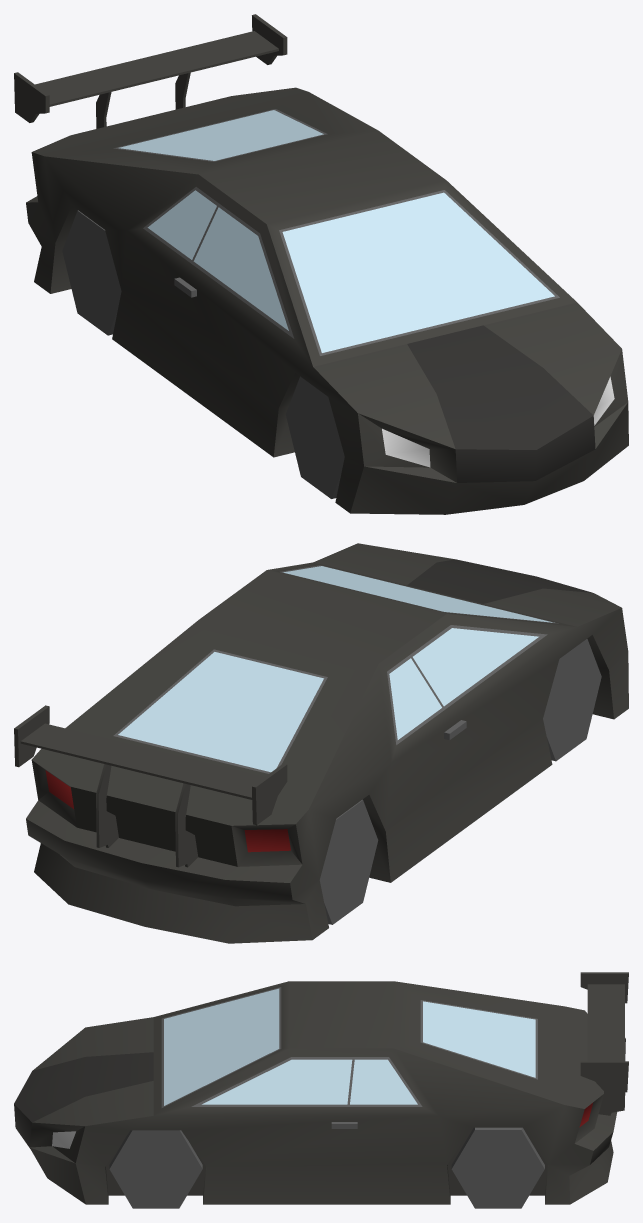
File: hard1.glb
The picture shows the model from 3 angles, top to bottom: view 1: azimuth 30°, elevation 25°; view 2: azimuth 150°, elevation 25°; view 3: azimuth 270°, elevation 25°; orthographic projection. The views are drawn at different scales.
Visible parts, largest first — view 1: Car_2_2; view 2: Car_2_2; view 3: Car_2_2.
Part boxes in pixels (<box>): Car_2_2: <box>14,14,628,514</box>; Car_2_2: <box>14,543,628,943</box>; Car_2_2: <box>14,972,628,1208</box>.
Bounding box in the file's own units: 2.97 × 1.94 × 7.41.
Materials: 1 (1 with a texture image).
